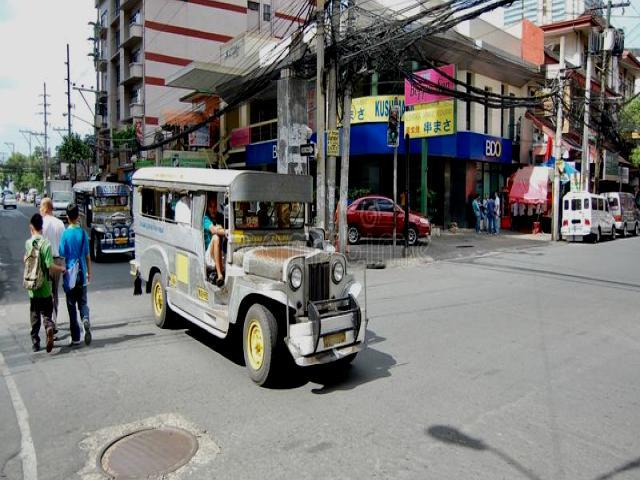jeepney: (130, 153, 378, 396), (72, 176, 144, 269)
